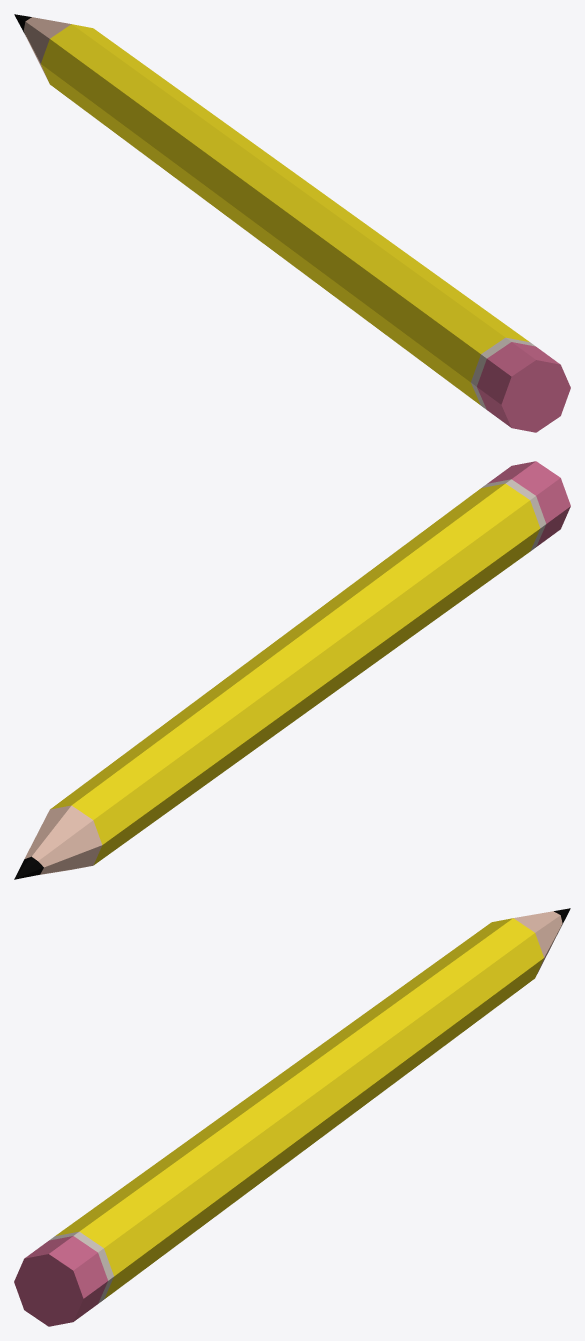
File: SM_Pencil_001.fbx
3 renders of one model, top to bottom at view 1: azimuth 30°, elevation 25°; view 2: azimuth 150°, elevation 25°; view 3: azimuth 330°, elevation 25°, orthographic.
Visible parts, largest first — view 1: Pencil; view 2: Pencil; view 3: Pencil.
Boxes of the visible parts, x1,y1,x2,y2 form: Pencil: [14, 14, 570, 432]; Pencil: [14, 461, 570, 879]; Pencil: [14, 908, 570, 1326].
Size of the model in its own units: 1 by 1 by 13.
